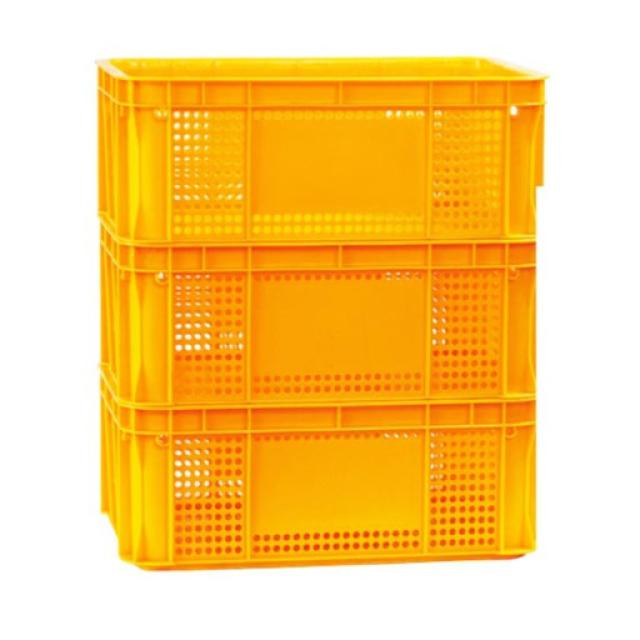basket: (97, 54, 544, 572)
